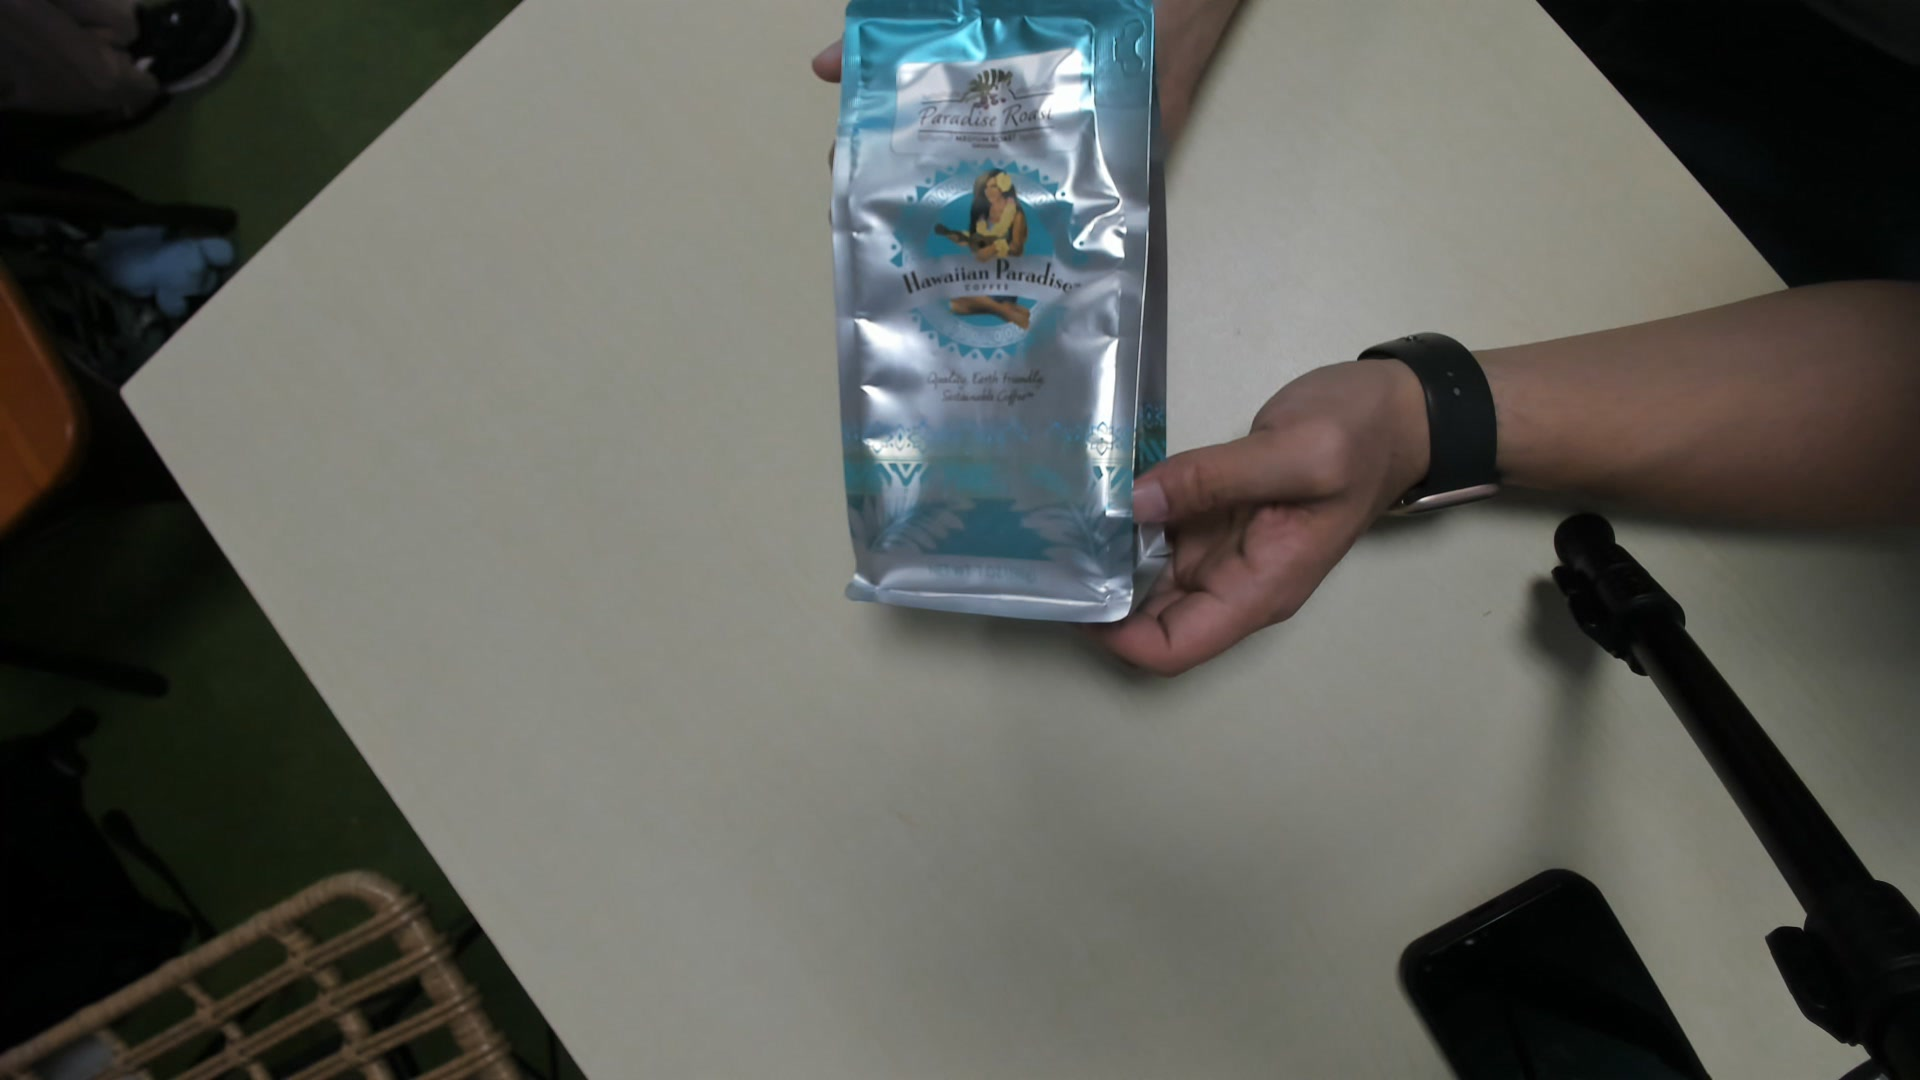Coffee_100-199g_NonHalal_NonHealthy: (833, 1, 1182, 637)
